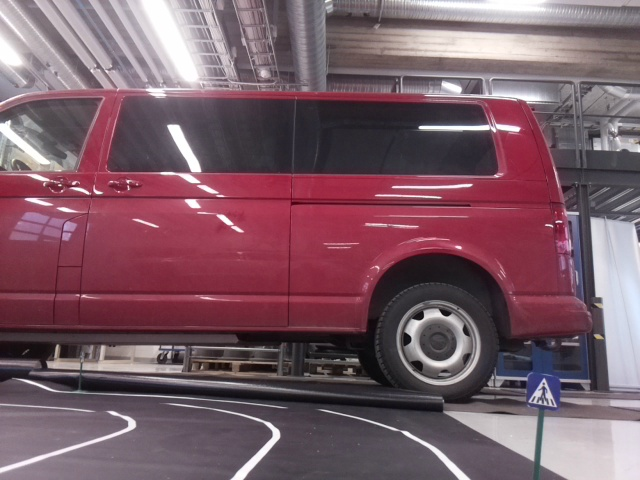Crosswalk: (527, 370, 559, 411)
